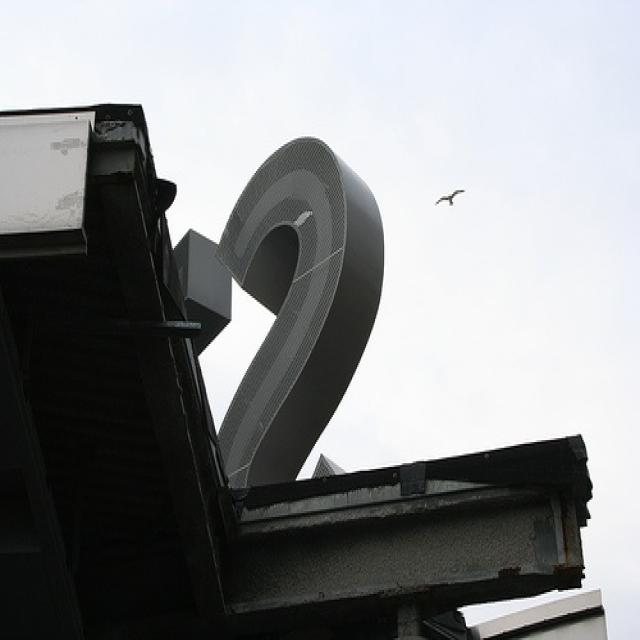bird: (433, 187, 467, 210)
